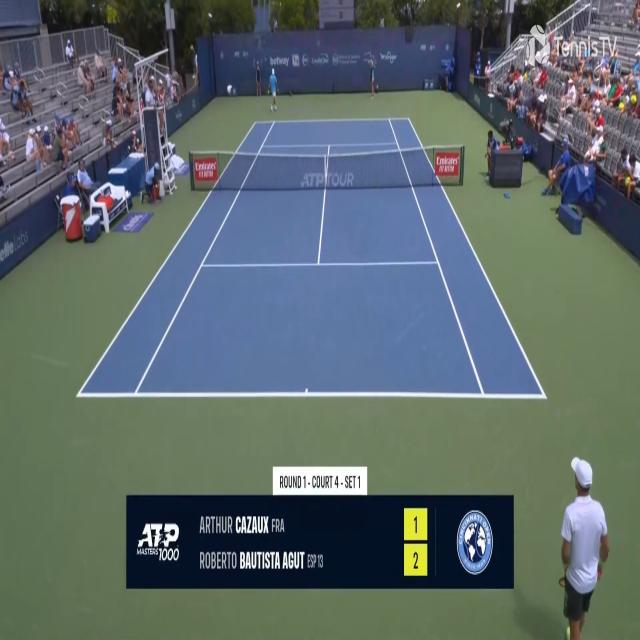tennis-player: (556, 452, 612, 640), (267, 65, 278, 113)
